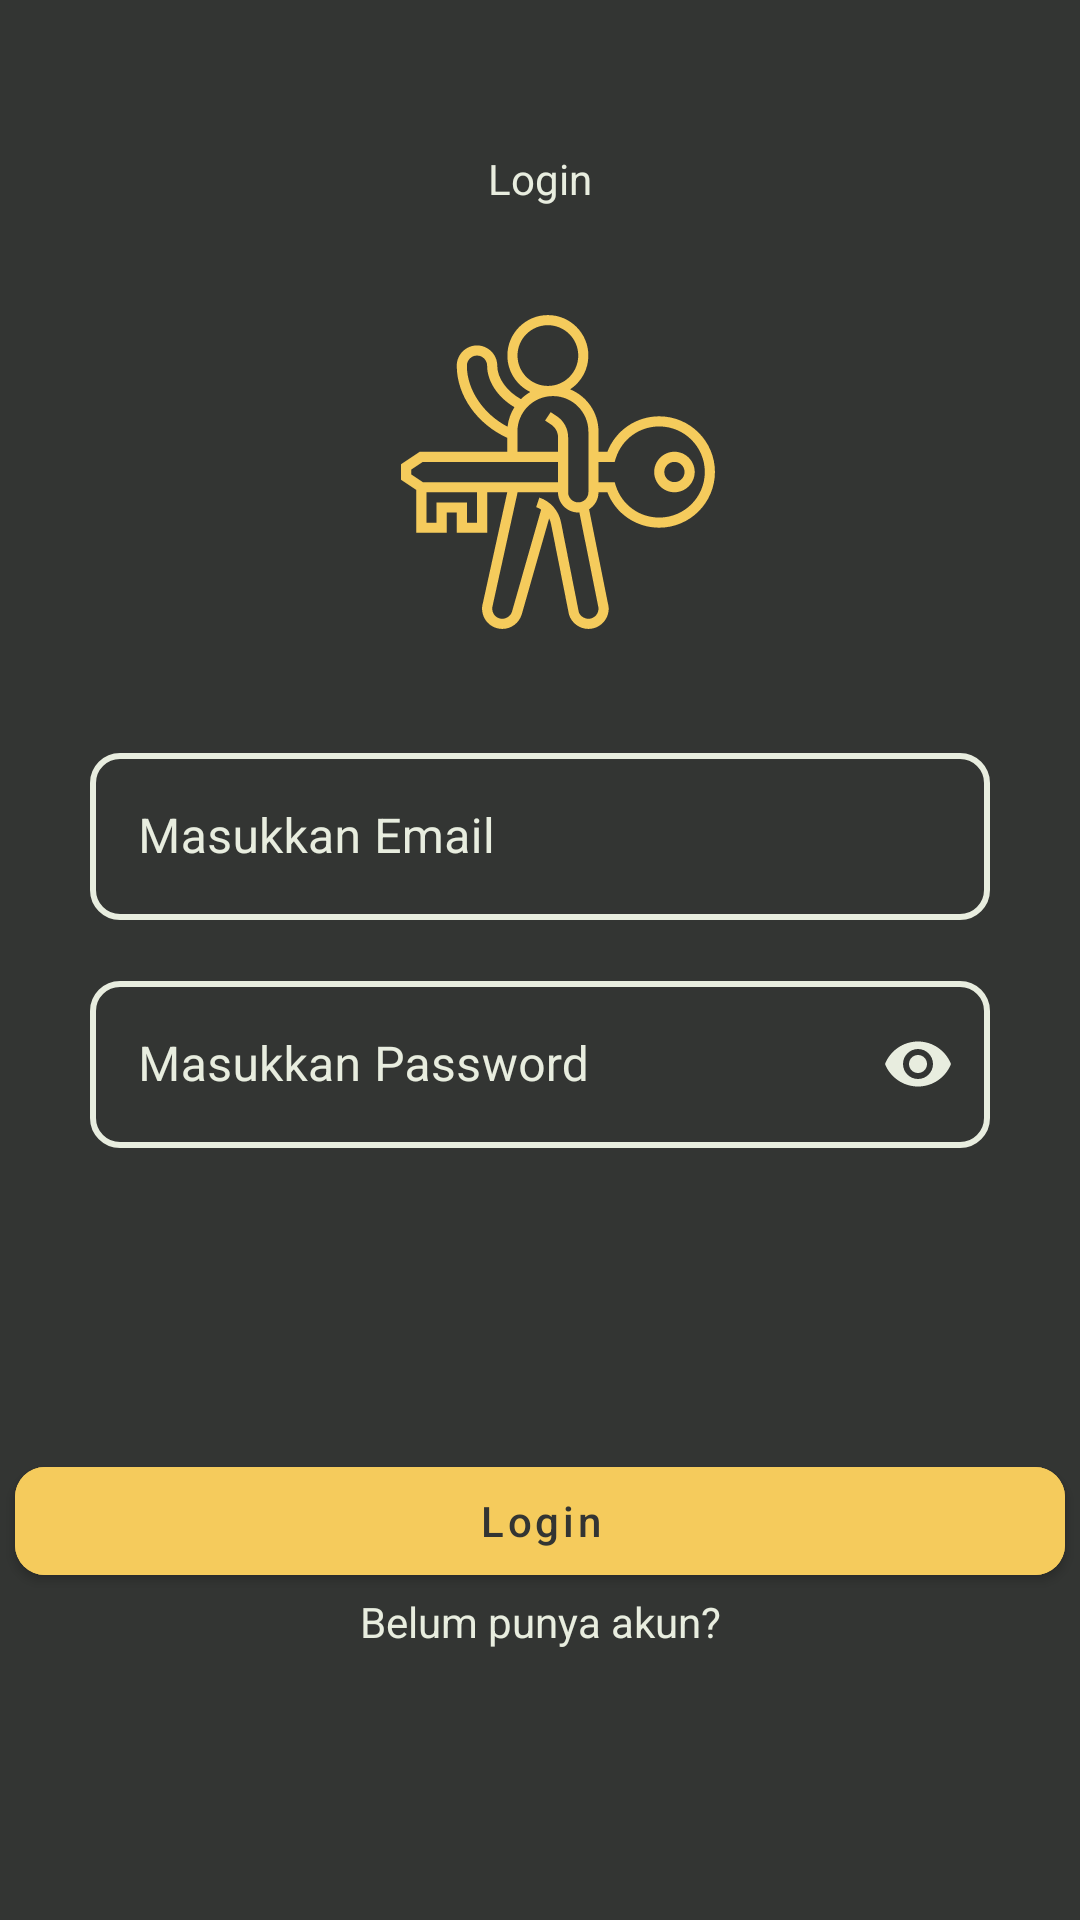

Named icons in this screenshot (1080 × 1920) and their centers, point (x, y):
key: point (558, 472)
